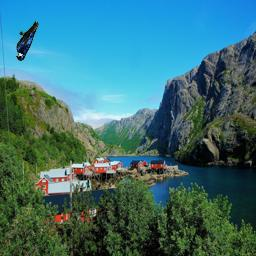Swallow: (16, 21, 39, 61)
